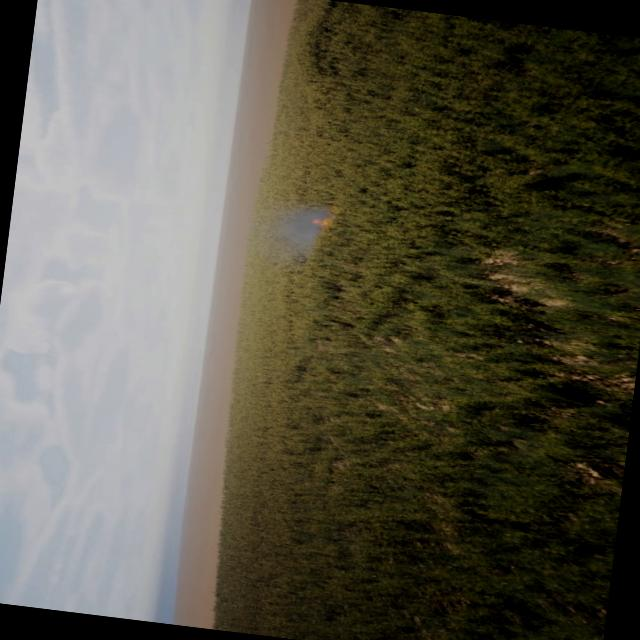fire: (303, 210, 334, 230)
smoke: (270, 198, 342, 262)
